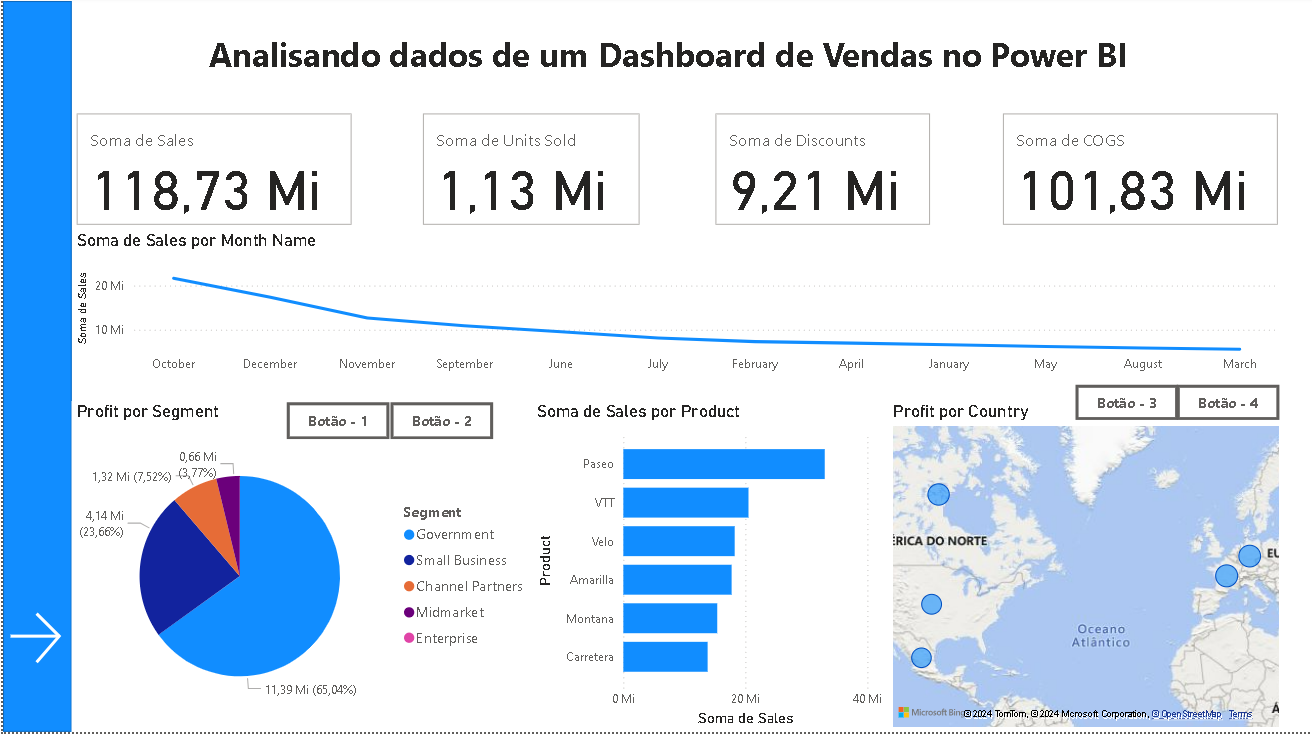

This screenshot's page, from the dashboard's own definition file:
{"tool":"powerbi","page":{"name":"Página 1","canvas":[1280,720],"ordinal":0},"visuals":[{"type":"cardVisual","fields":{"Data":["Sum(financials. Sales)"]},"box":[67.2,109.8,279.9,119.4],"z":0},{"type":"cardVisual","fields":{"Data":["Sum(financials.Units Sold)"]},"box":[406.2,109.8,222.3,119.4],"z":1000},{"type":"cardVisual","fields":{"Data":["Sum(financials.Discounts)"]},"box":[691.6,109.8,220.9,119.4],"z":2000},{"type":"cardVisual","fields":{"Data":["Sum(financials.COGS)"]},"box":[972.9,109.8,279.9,119.4],"z":3000},{"type":"lineChart","fields":{"Y":["Sum(financials. Sales)"],"Category":["financials.Month Name"]},"box":[67.2,229.2,1185.6,149.6],"z":4000},{"type":"barChart","fields":{"Y":["Sum(financials. Sales)"],"Category":["financials.Product"]},"box":[517.3,396.6,348.5,323.8],"z":5000},{"type":"textbox","box":[67.2,30.2,1167.8,57.6],"z":6000},{"type":"treemap","title":"Profit por Country","fields":{"Values":["Sum(financials.Profit)"],"Group":["financials.Country"]},"box":[865.9,396.6,387,323.8],"z":7500,"group":"g1"},{"type":"map","title":"Profit por Country","fields":{"Category":["financials.Country"],"Size":["Sum(financials.Profit)"]},"box":[865.9,396.6,387,323.8],"z":7750,"group":"g1"},{"type":"actionButton","title":"Botão - 4","box":[1148.4,381.2,100.4,34.6],"z":8750,"group":"g1"},{"type":"actionButton","title":"Botão - 3","box":[1049.7,380.9,100.4,34.6],"z":9250,"group":"g1"},{"type":"barChart","title":"Profit por Segment","fields":{"Y":["Sum(financials.Profit)"],"Category":["financials.Segment"]},"box":[67.2,396.6,450.1,323.8],"z":10000,"group":"g2"},{"type":"pieChart","title":" Profit por Segment","fields":{"Y":["Sum(financials.Profit)"],"Category":["financials.Segment"]},"box":[67.2,396.6,450.1,323.8],"z":10500,"group":"g2"},{"type":"shape","box":[0,5.5,67.2,714.9],"z":10750},{"type":"actionButton","title":"Botão - 2","box":[378.5,397.3,100.4,36.4],"z":10750,"group":"g2"},{"type":"actionButton","title":"Botão - 1","box":[278,397.3,100.4,36.4],"z":11000,"group":"g2"},{"type":"actionButton","title":"proxima pagina","box":[0,596.7,67.3,62.4],"z":11375},{"type":"group","id":"g1","title":"Grupo 2","box":[865.9,380.9,387,339.6],"z":12000},{"type":"group","id":"g2","title":"Grupo 1","box":[67.2,396.6,450.1,323.8],"z":13000}]}

Visuals, with their boxes in screenshot pixels (x1, y1, x2, y2), scaled from the page's 1280x720 canvas onto the 1312x736 screenshot:
cardVisual - Sum(financials. Sales): box=[69, 112, 356, 234]
cardVisual - Sum(financials.Units Sold): box=[416, 112, 644, 234]
cardVisual - Sum(financials.Discounts): box=[709, 112, 935, 234]
cardVisual - Sum(financials.COGS): box=[997, 112, 1284, 234]
lineChart - Sum(financials. Sales) x financials.Month Name: box=[69, 234, 1284, 387]
barChart - Sum(financials. Sales) x financials.Product: box=[530, 405, 887, 735]
textbox: box=[69, 31, 1266, 90]
"Profit por Country" treemap: box=[888, 405, 1284, 735]
"Profit por Country" map: box=[888, 405, 1284, 735]
"Botão - 4" actionButton: box=[1177, 390, 1280, 425]
"Botão - 3" actionButton: box=[1076, 389, 1179, 425]
"Profit por Segment" barChart: box=[69, 405, 530, 735]
" Profit por Segment" pieChart: box=[69, 405, 530, 735]
shape: box=[0, 6, 69, 735]
"Botão - 2" actionButton: box=[388, 406, 491, 443]
"Botão - 1" actionButton: box=[285, 406, 388, 443]
"proxima pagina" actionButton: box=[0, 610, 69, 674]
"Grupo 2" group: box=[888, 389, 1284, 735]
"Grupo 1" group: box=[69, 405, 530, 735]
